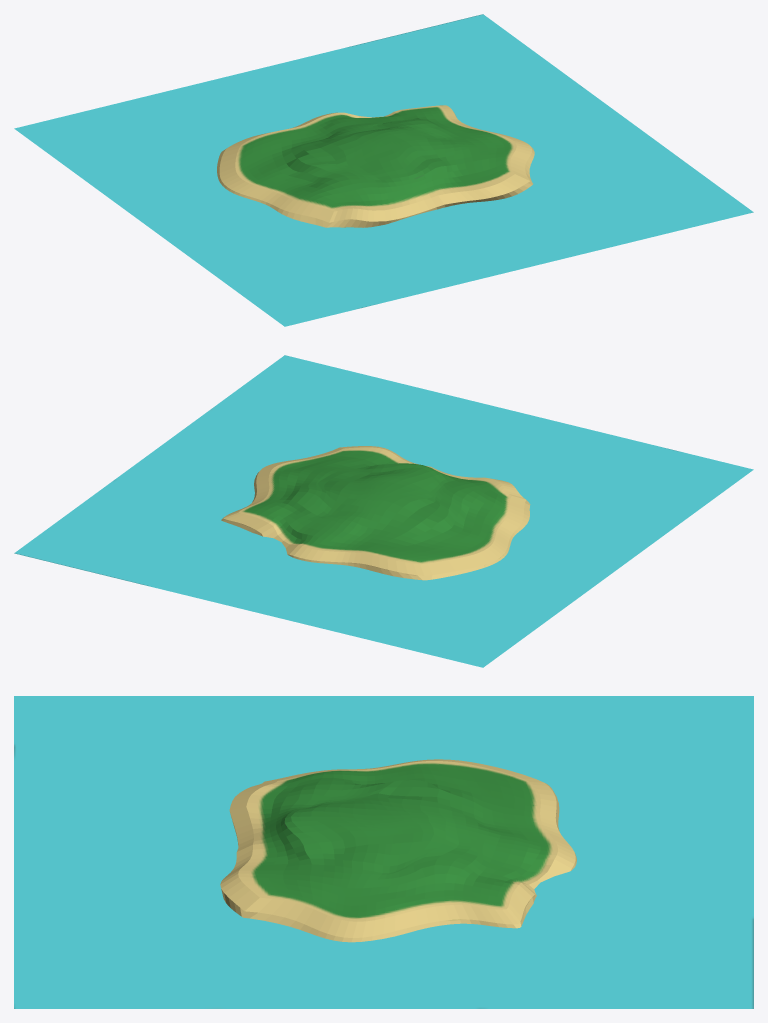
Rendered from ile_ground.fbx.
3 renders of one model, top to bottom at view 1: azimuth 30°, elevation 25°; view 2: azimuth 150°, elevation 25°; view 3: azimuth 270°, elevation 25°, orthographic. The views are drawn at different scales.
Parts seen in each view (by area): view 1: ile.001; view 2: ile.001; view 3: ile.001.
Part boxes in pixels (box(x1,y1,x2,y2)): ile.001: box(14, 14, 753, 326); ile.001: box(14, 355, 753, 667); ile.001: box(14, 696, 753, 1008).
Bounding box in the file's own units: 48699 × 3690 × 48699.
